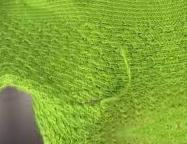snag: (97, 42, 135, 110)
